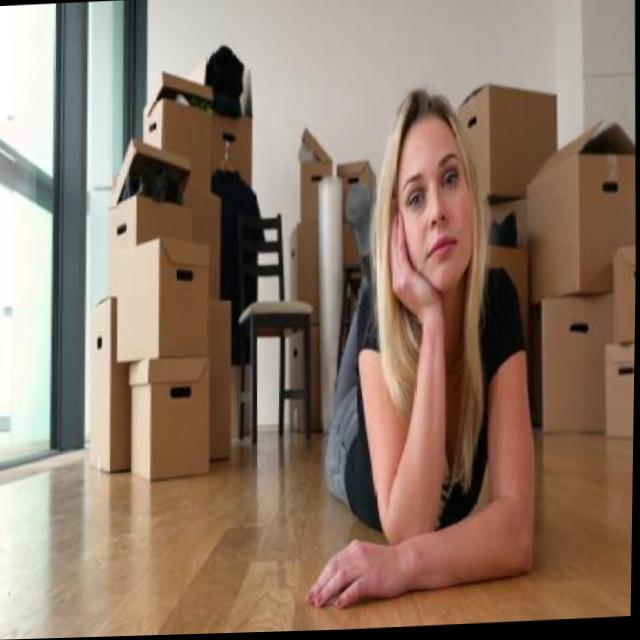box: (517, 124, 638, 309), (443, 75, 582, 216), (98, 138, 202, 318), (532, 286, 636, 461), (107, 227, 222, 374), (137, 59, 226, 215), (122, 352, 220, 488), (293, 120, 342, 379), (80, 291, 139, 481), (328, 152, 387, 287), (602, 340, 636, 455), (610, 245, 636, 352)
